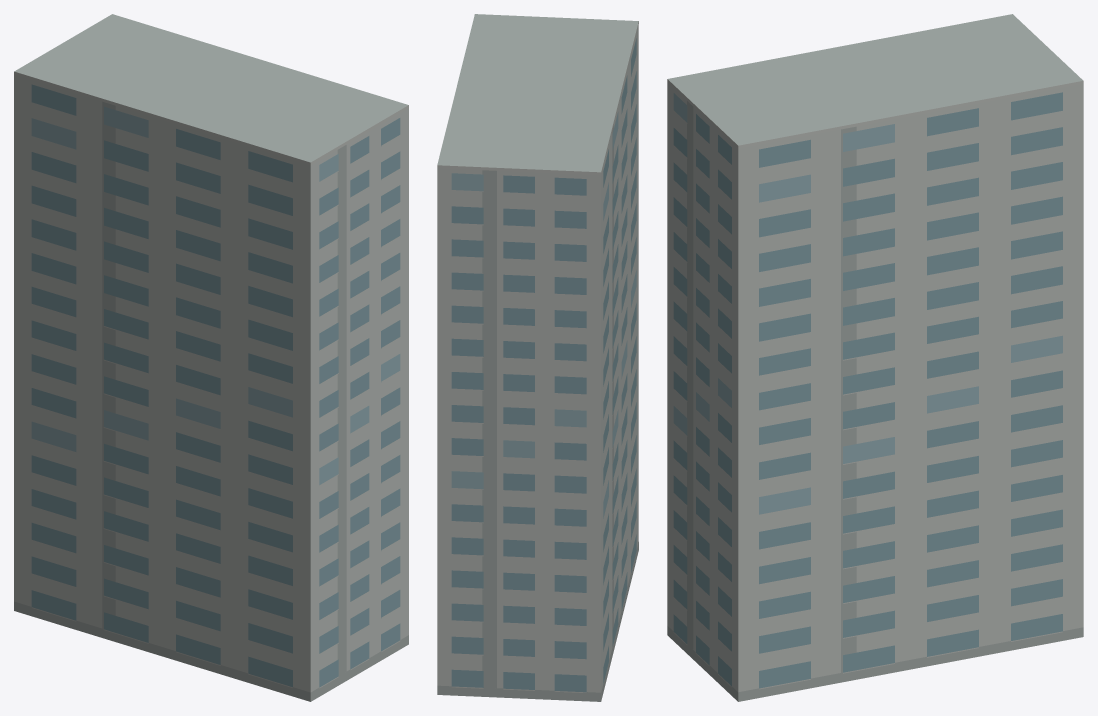
File: residential-c6ff7e2d-9d50-4b1c-ba2d-a0a04a3adaef.glb
3 renders of one model, left to right at view 1: azimuth 30°, elevation 25°; view 2: azimuth 150°, elevation 25°; view 3: azimuth 270°, elevation 25°, orthographic. The views are drawn at different scales.
Visible parts, largest first — view 1: residential-c6ff7e2d-9d50-4b1c-ba2d-a0a04a3adaef.tmp; view 2: residential-c6ff7e2d-9d50-4b1c-ba2d-a0a04a3adaef.tmp; view 3: residential-c6ff7e2d-9d50-4b1c-ba2d-a0a04a3adaef.tmp.
Part boxes in pixels (x1,y1,x2,y2): residential-c6ff7e2d-9d50-4b1c-ba2d-a0a04a3adaef.tmp: (14, 14, 408, 701); residential-c6ff7e2d-9d50-4b1c-ba2d-a0a04a3adaef.tmp: (437, 14, 638, 701); residential-c6ff7e2d-9d50-4b1c-ba2d-a0a04a3adaef.tmp: (667, 14, 1083, 701).
Bounding box in the file's own units: 21.84 × 43 × 29.17.
